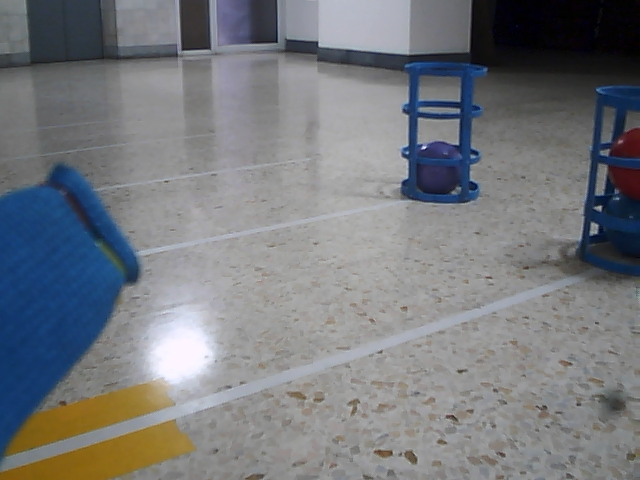Blue ball: (599, 194, 640, 256)
Cyro: (397, 57, 486, 205), (578, 81, 640, 276)
Purple ball: (417, 141, 462, 195)
Red ball: (606, 127, 640, 200)
